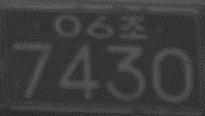0: (151, 45, 195, 103), (54, 13, 82, 39)
3: (106, 44, 147, 103)
4: (57, 42, 101, 101)
6: (86, 12, 114, 40)
7: (12, 40, 53, 100)
조: (118, 15, 146, 39)
